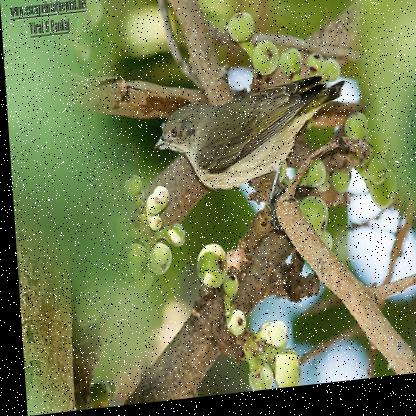Burung: (141, 83, 349, 239)
